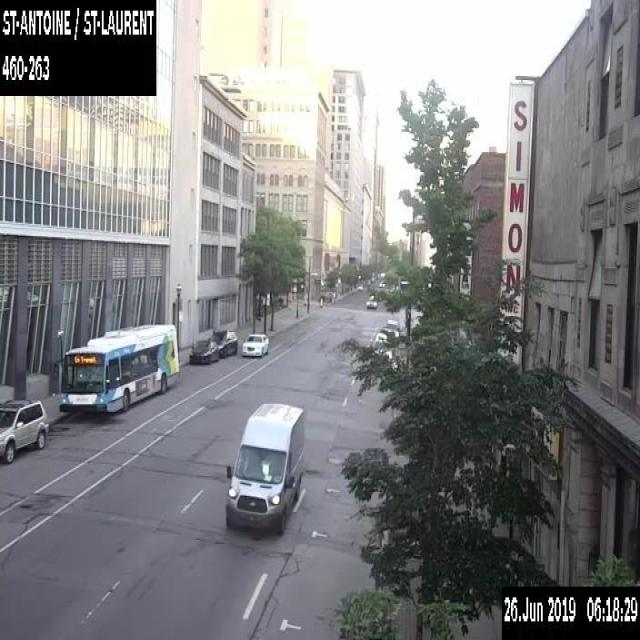bus: (57, 321, 178, 416)
vehicle: (224, 401, 306, 535), (0, 396, 48, 465), (208, 328, 237, 358), (187, 338, 218, 364), (242, 332, 268, 357), (373, 331, 391, 360), (384, 318, 400, 338), (365, 294, 376, 308)
